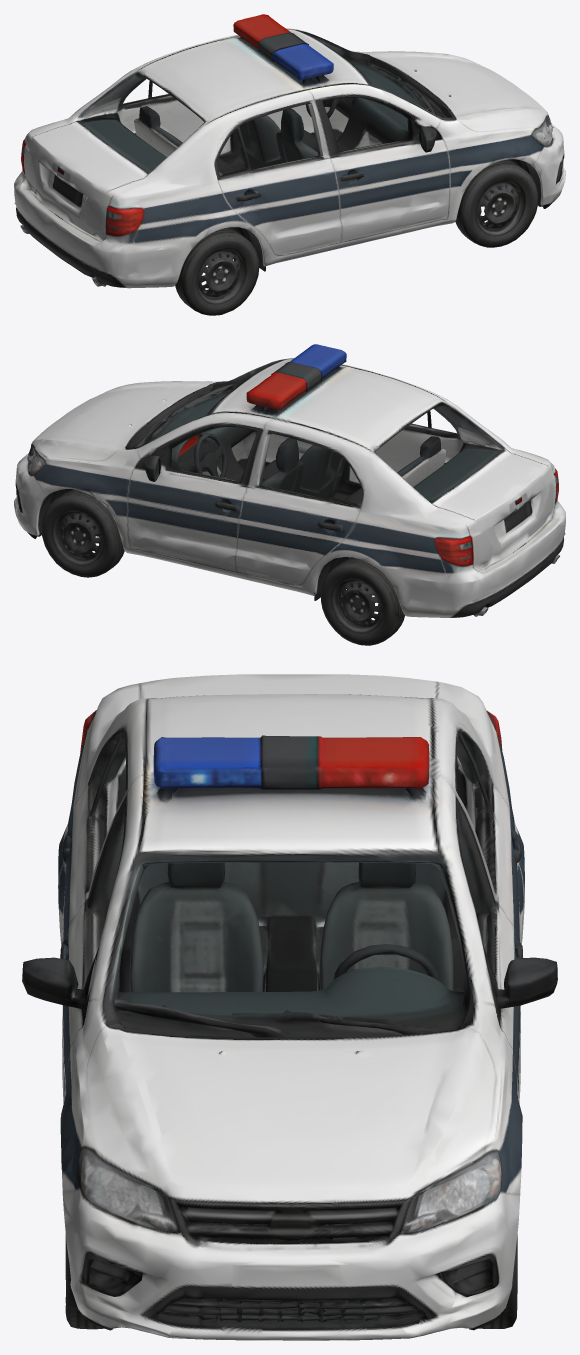
The model's file is viatura.glb.
The picture shows the model from 3 angles, top to bottom: view 1: azimuth 30°, elevation 25°; view 2: azimuth 150°, elevation 25°; view 3: azimuth 270°, elevation 25°; orthographic projection. The views are drawn at different scales.
Visible parts, largest first — view 1: tripo_node_22a87f59-a15a-4b2b-9677-1279472ede90; view 2: tripo_node_22a87f59-a15a-4b2b-9677-1279472ede90; view 3: tripo_node_22a87f59-a15a-4b2b-9677-1279472ede90.
Part boxes in pixels (<box>): tripo_node_22a87f59-a15a-4b2b-9677-1279472ede90: <box>14,14,565,315</box>; tripo_node_22a87f59-a15a-4b2b-9677-1279472ede90: <box>14,344,565,645</box>; tripo_node_22a87f59-a15a-4b2b-9677-1279472ede90: <box>22,674,557,1340</box>.
Bounding box in the file's own units: 3.7 × 1.5 × 1.76.
1 material, 1 textured.
